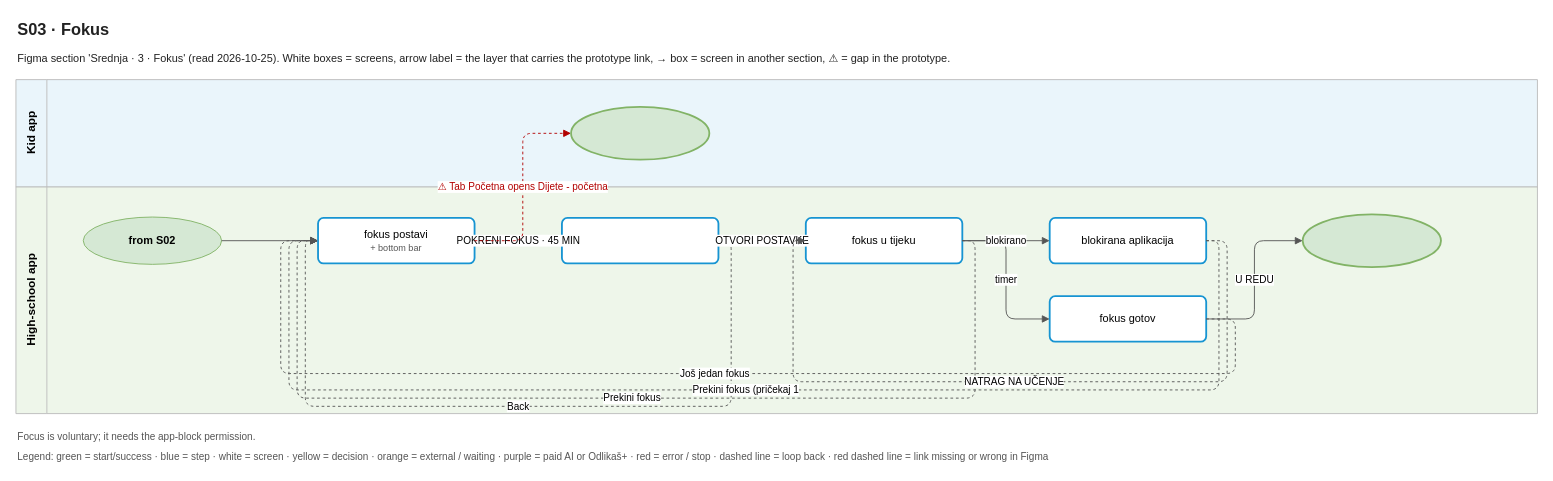
This 1553x481 diagram has some shape labels left out. The centre of each missing label's shape, as x and y in pixels:
"fokus dopuštenje" goes at (640,240).
"→ početna D02 Početna i navigacija" goes at (640,133).
"→ početna S02 Početna i ocjene" goes at (1371,240).
